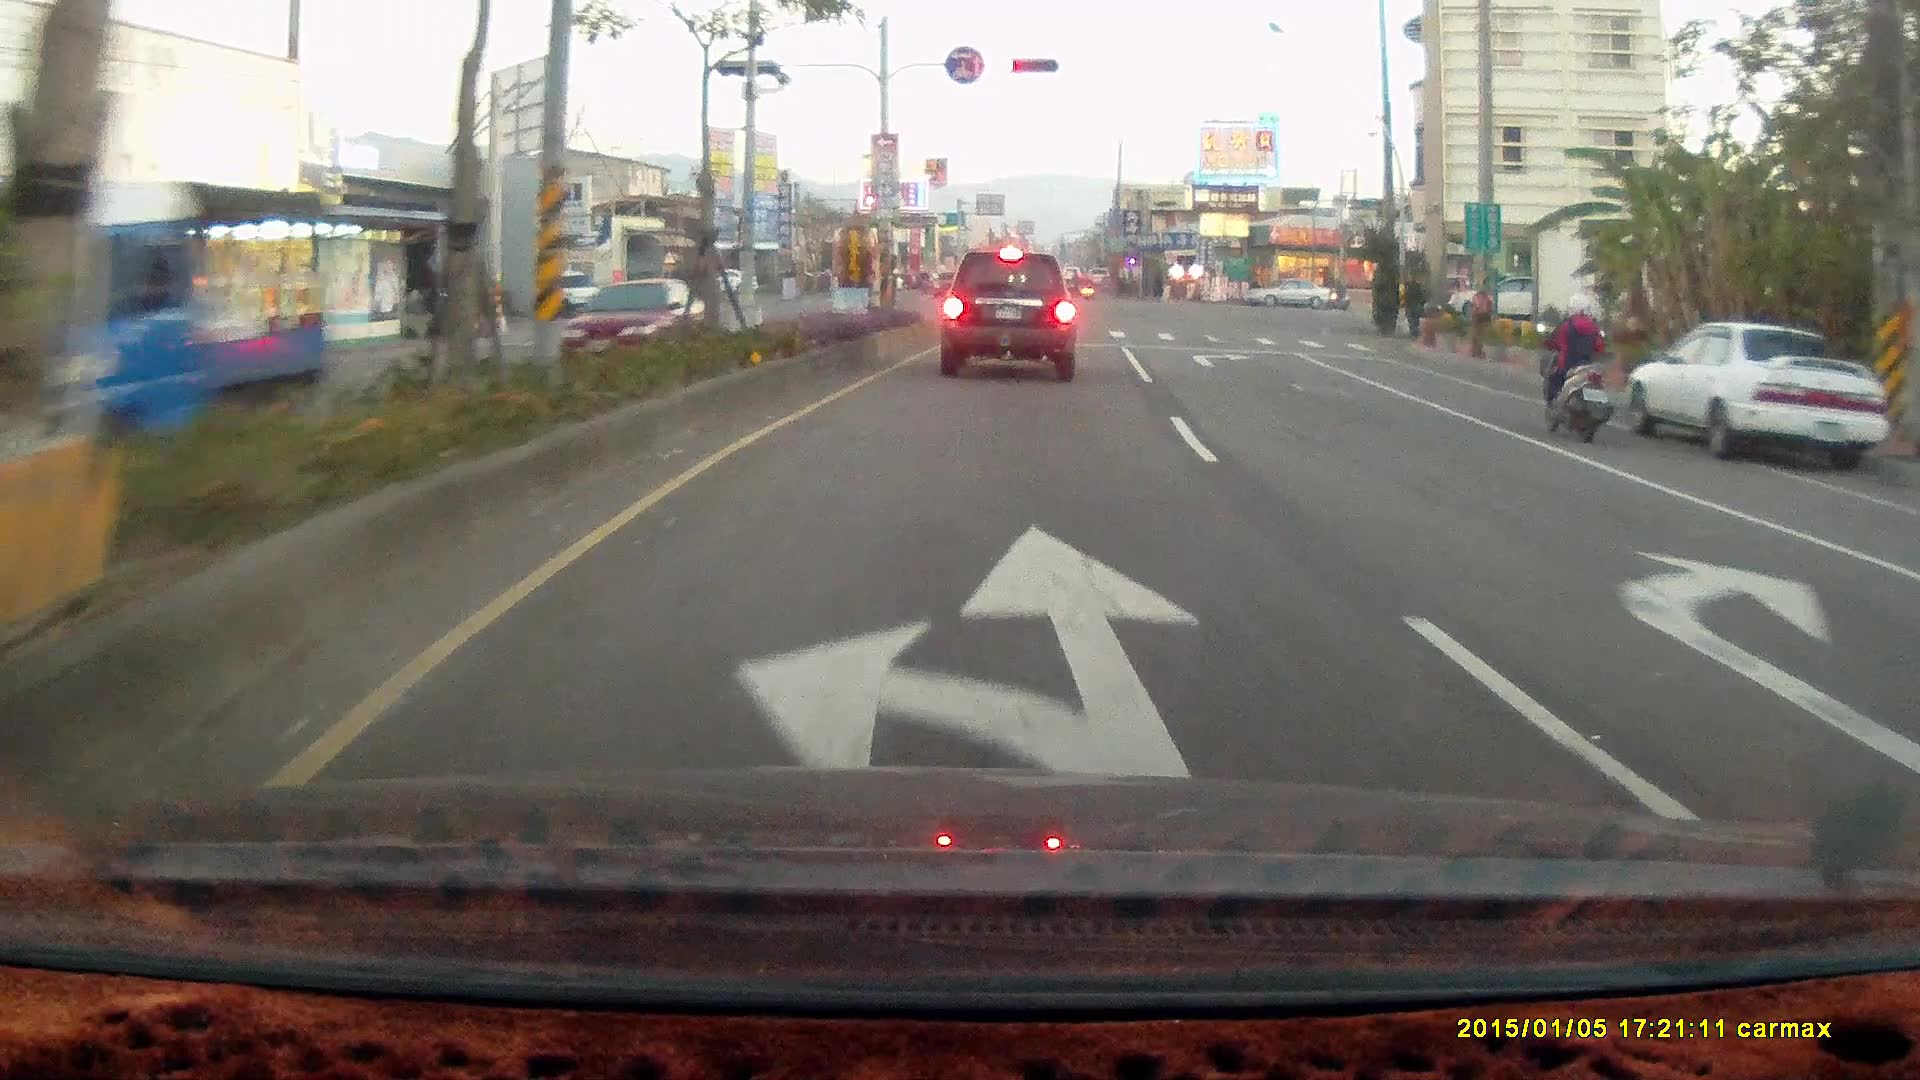rider: (1533, 292, 1615, 444), (1324, 274, 1351, 311)
vehicle: (5, 132, 326, 485), (1618, 317, 1890, 471), (1620, 325, 1897, 472), (938, 249, 1078, 382), (1896, 493, 1920, 836), (1883, 528, 1920, 690), (1448, 273, 1563, 325), (1239, 278, 1336, 313), (1241, 276, 1332, 310)
